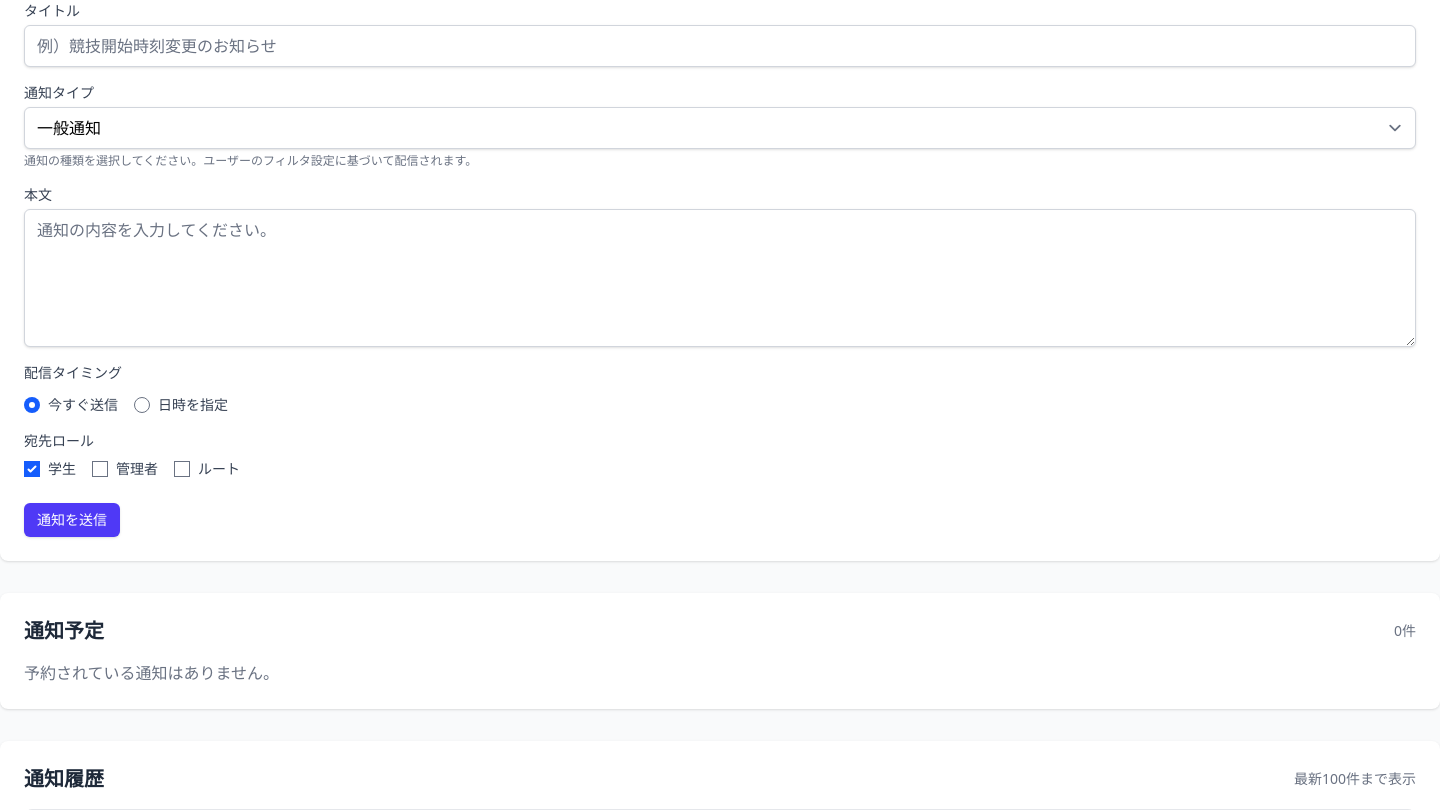
Notification Management Page › 日時を指定して通知を予約できる
The image size is (1440, 810).
(page scrolled)
Click the radio button labelled "日時を指定" at (142, 405), box [134,397,150,413]
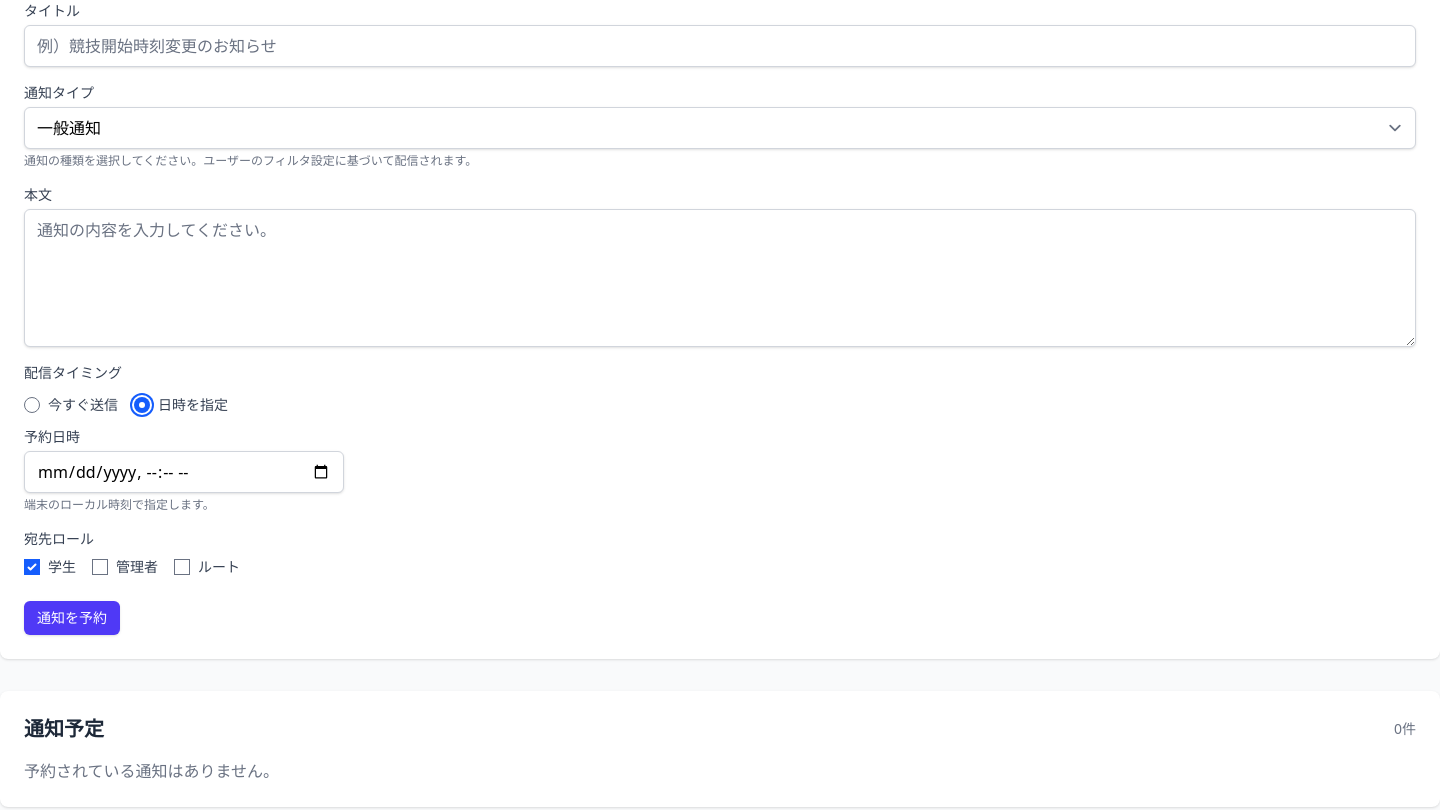
Type "2099-10-01T12:30" into the field labelled "予約日時" at (184, 472), box [24,451,344,493]
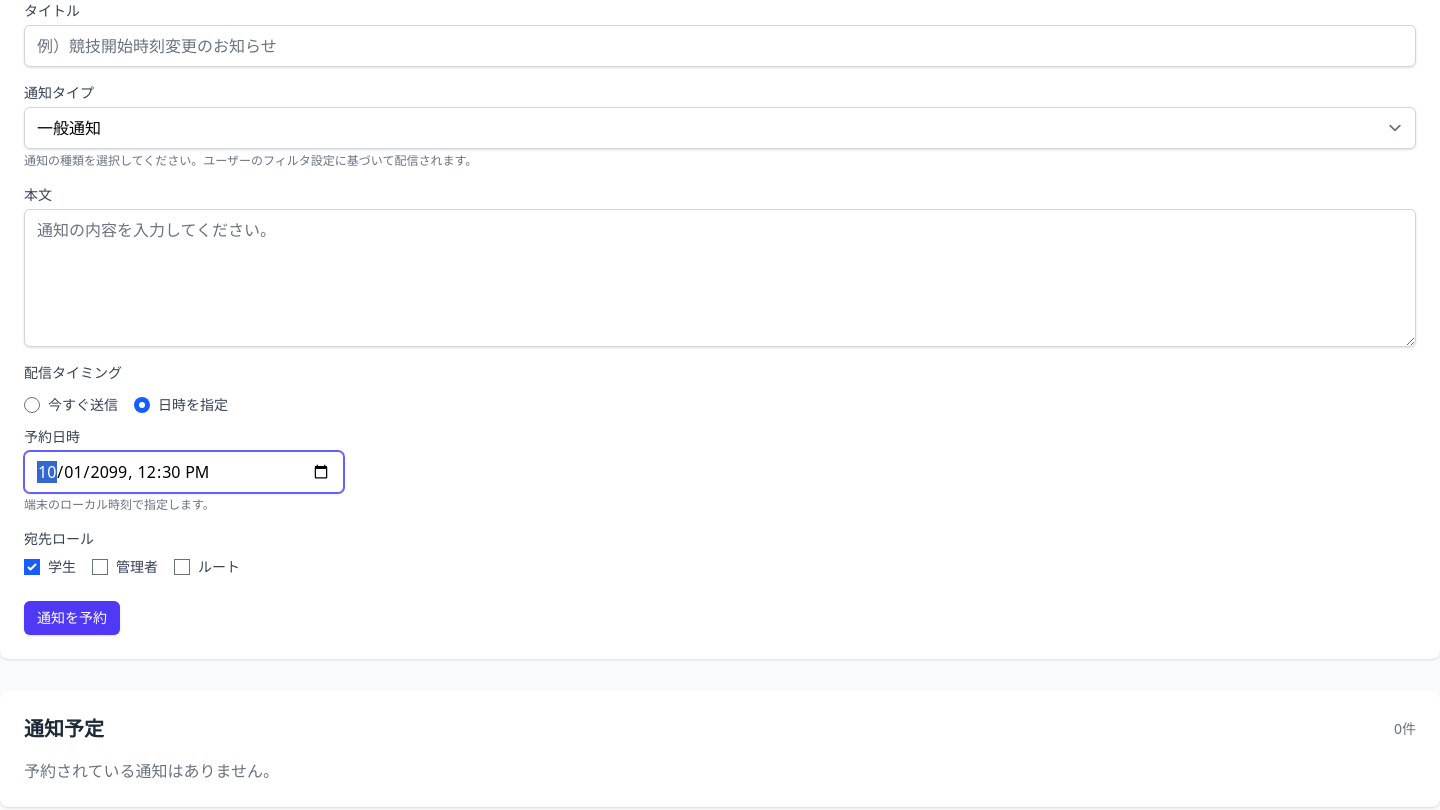
Type "予約連絡" into the field labelled "タイトル" at (720, 46), box [24,25,1416,67]
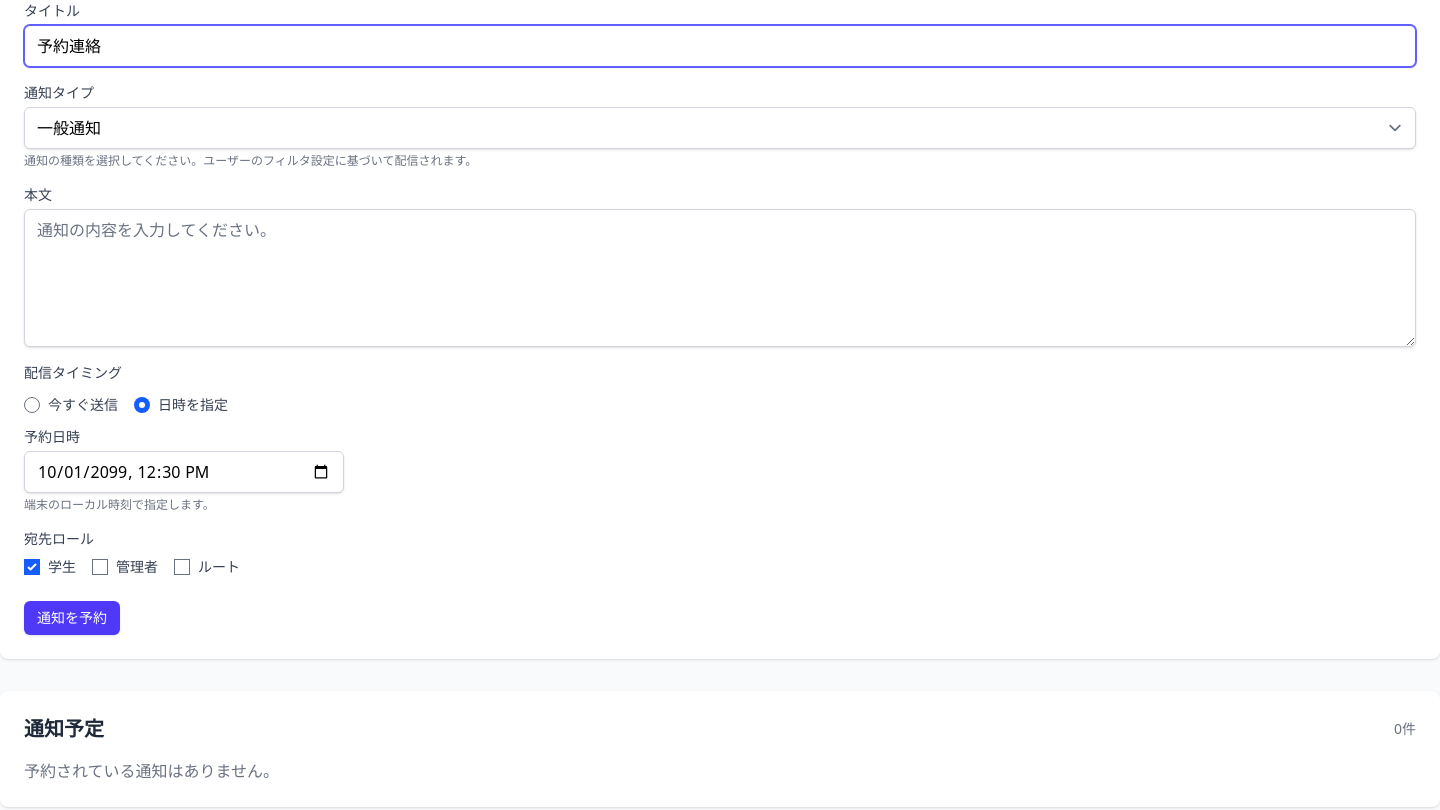
Type "指定時刻に配信します。" into the text box labelled "本文" at (720, 278), box [24,209,1416,347]
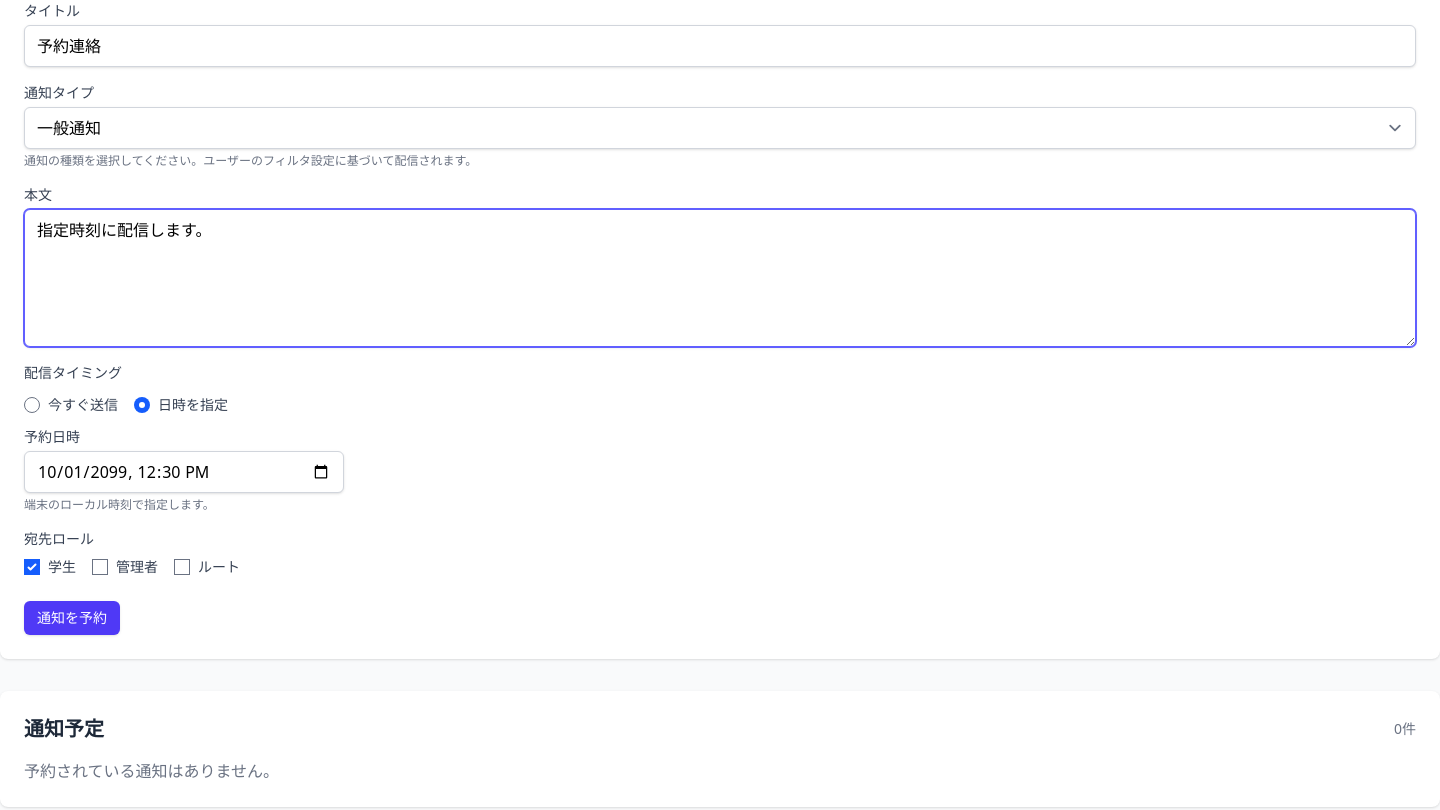
Click the button "通知を予約" at (72, 618), box [24,601,120,635]
(page scrolled)
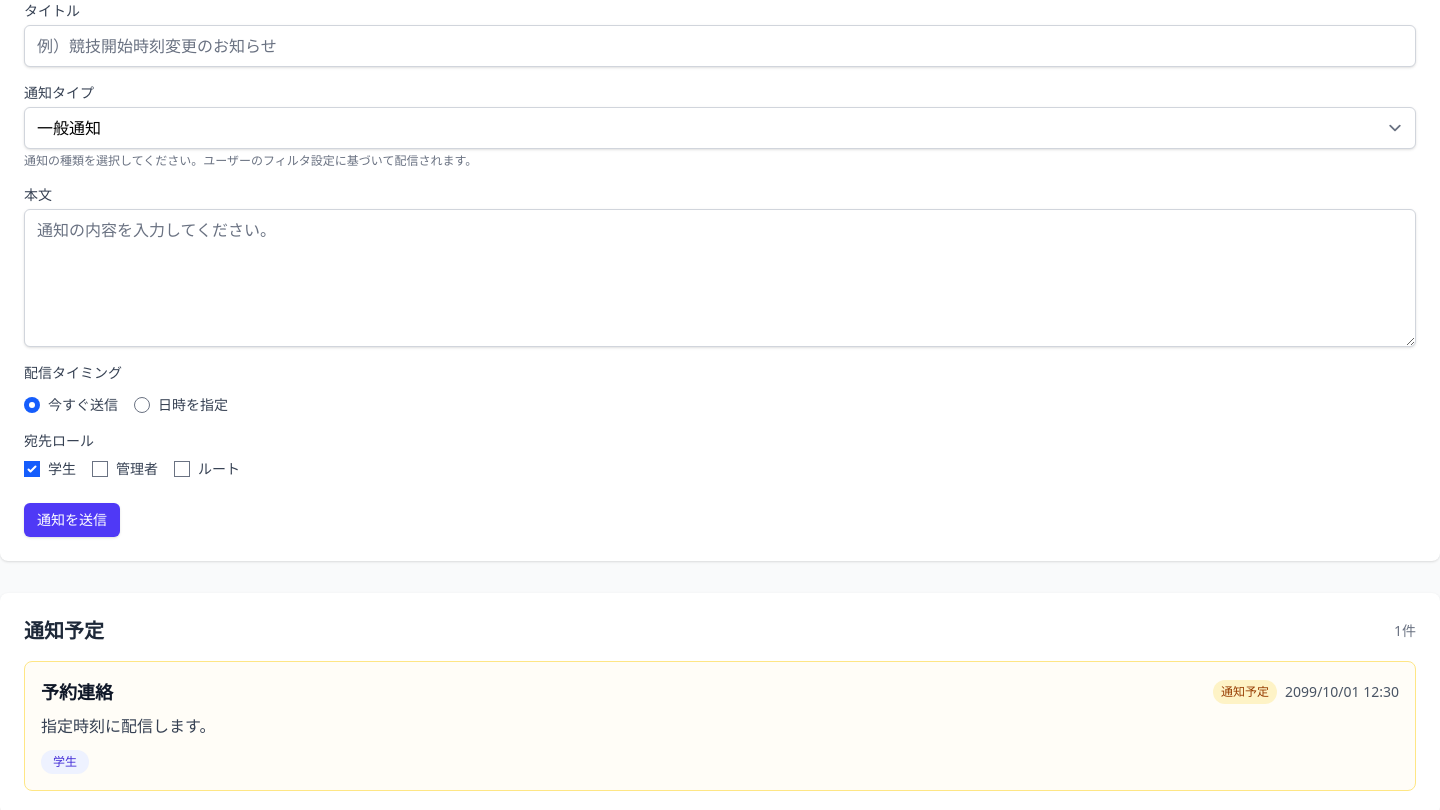
expect the heading "予約連絡" is shown: met, box [41,678,113,706]
expect the field labelled "タイトル" is empty: met, box [24,25,1416,67]
expect the text box labelled "本文" is empty: met, box [24,209,1416,347]
